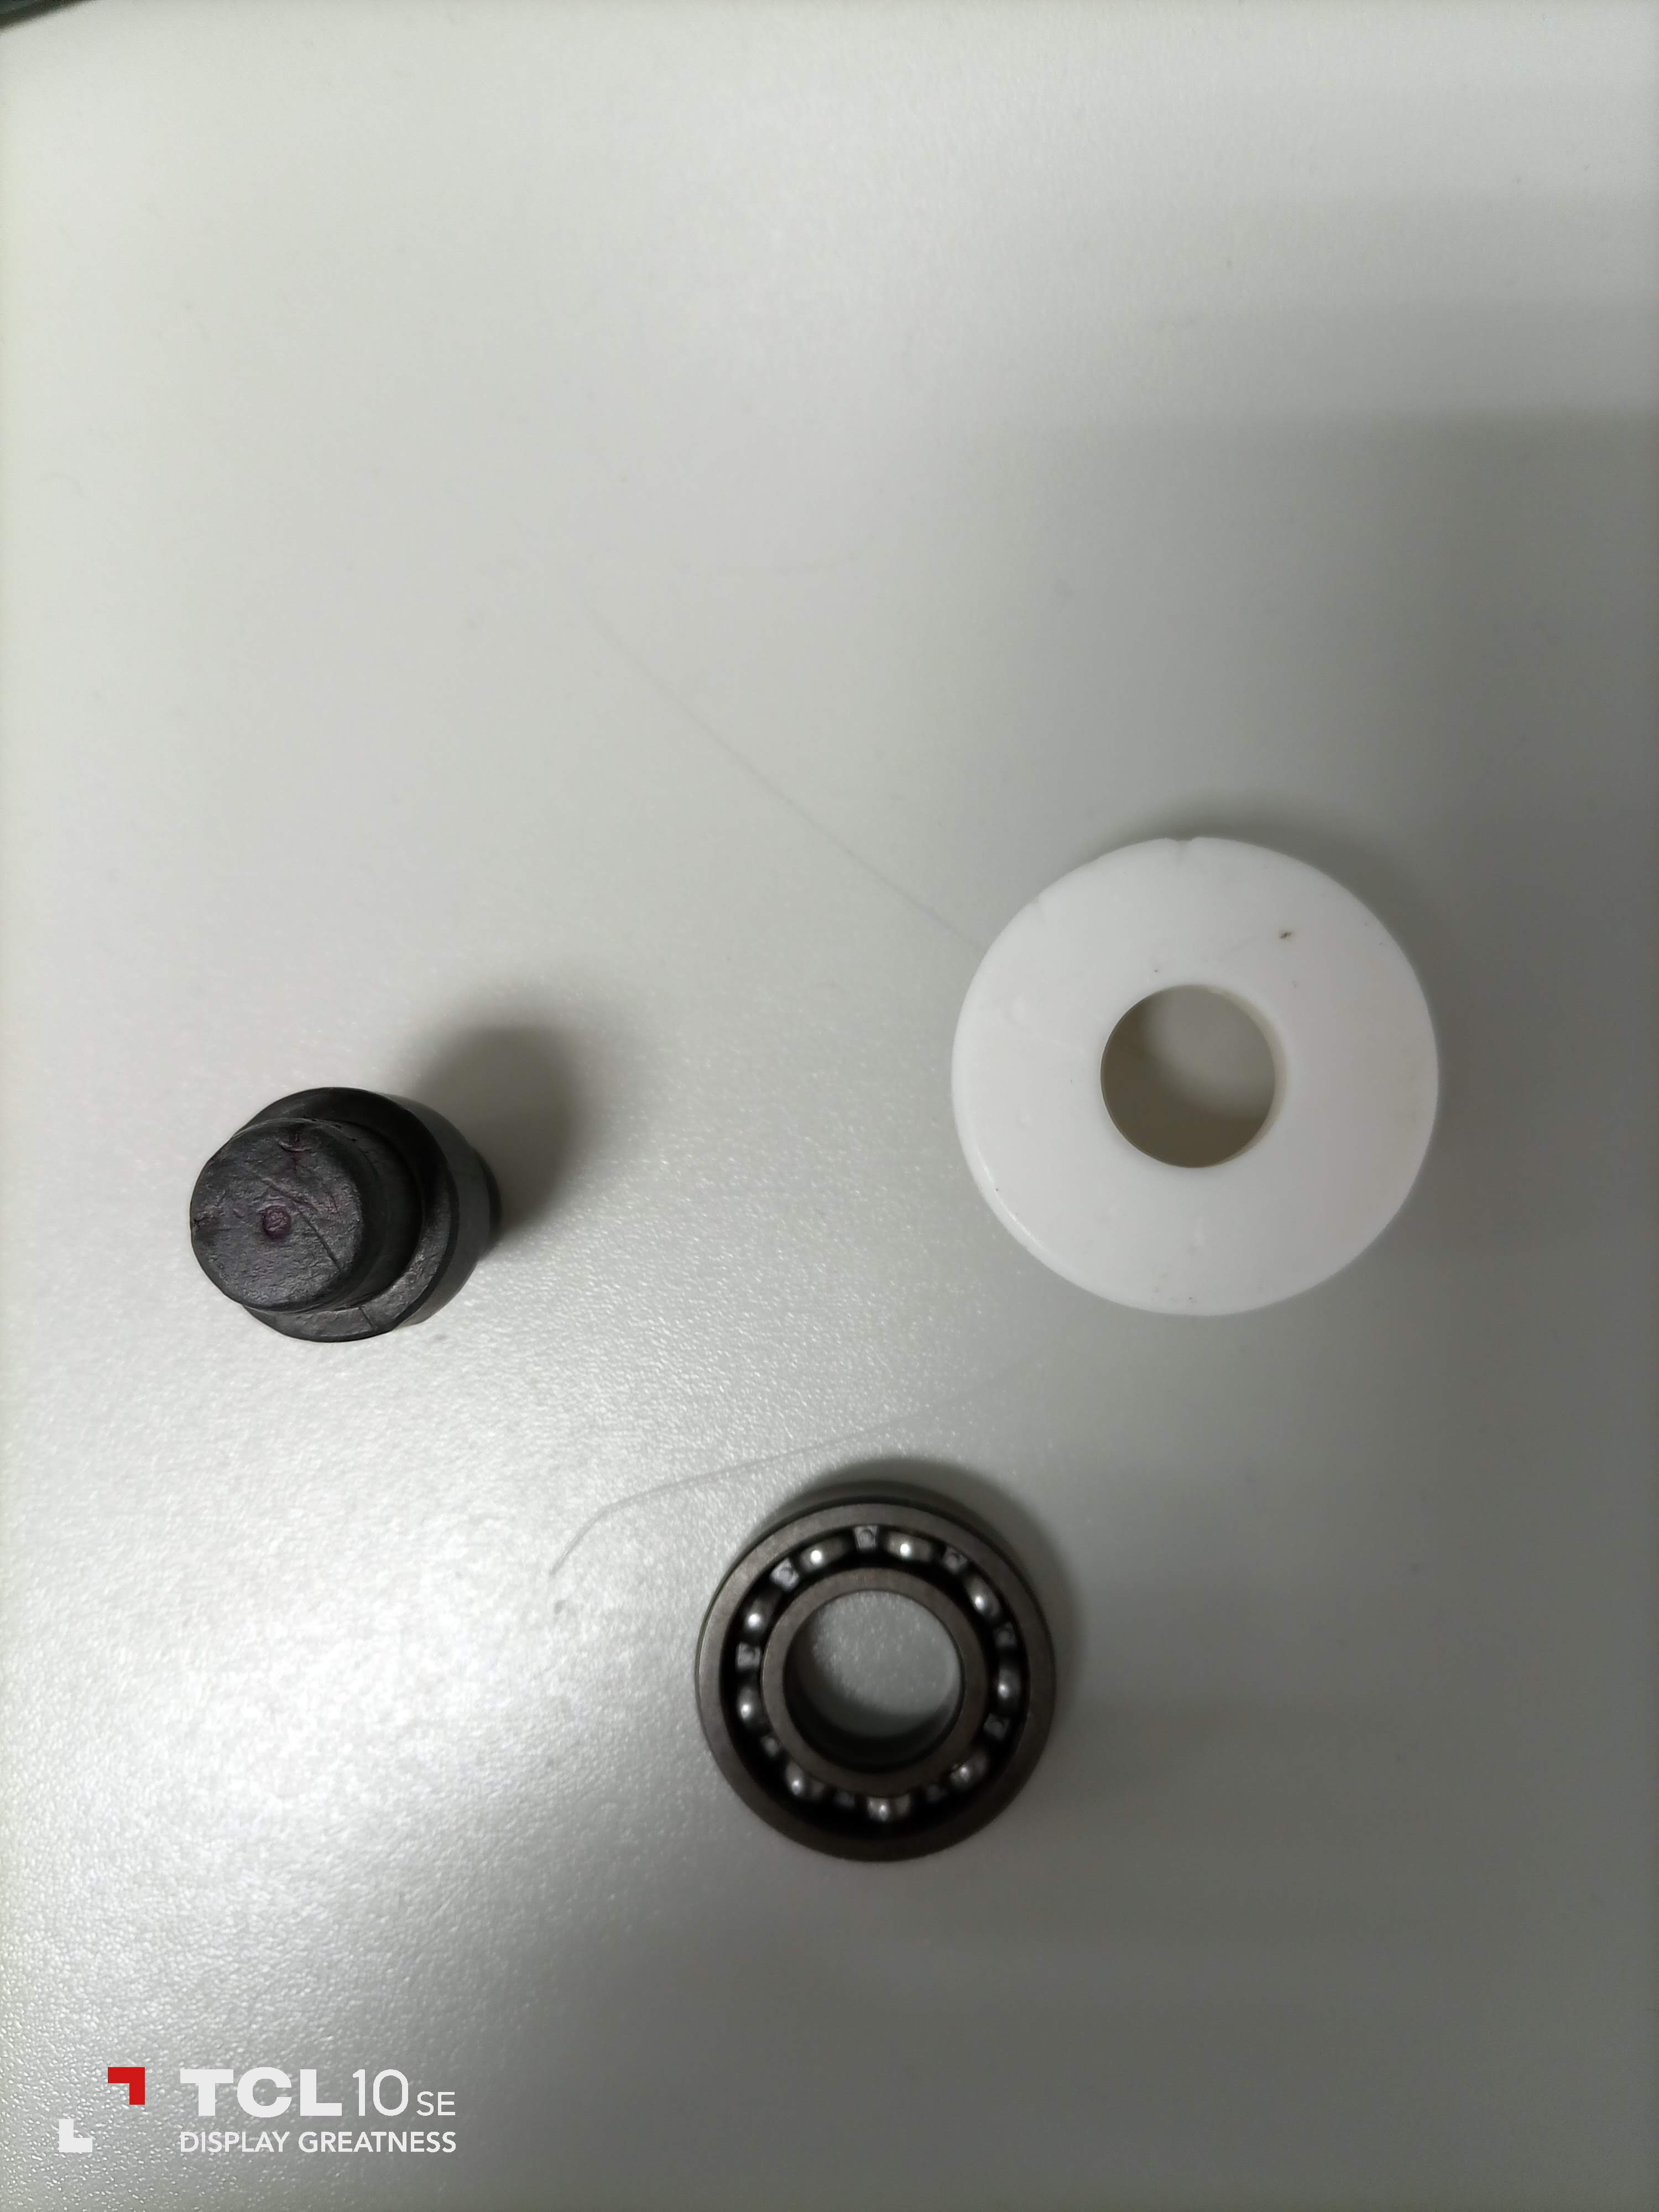Ardatza: (188, 1083, 559, 1360)
Roda: (681, 1489, 1110, 1858)
Tapa: (936, 833, 1478, 1312)
